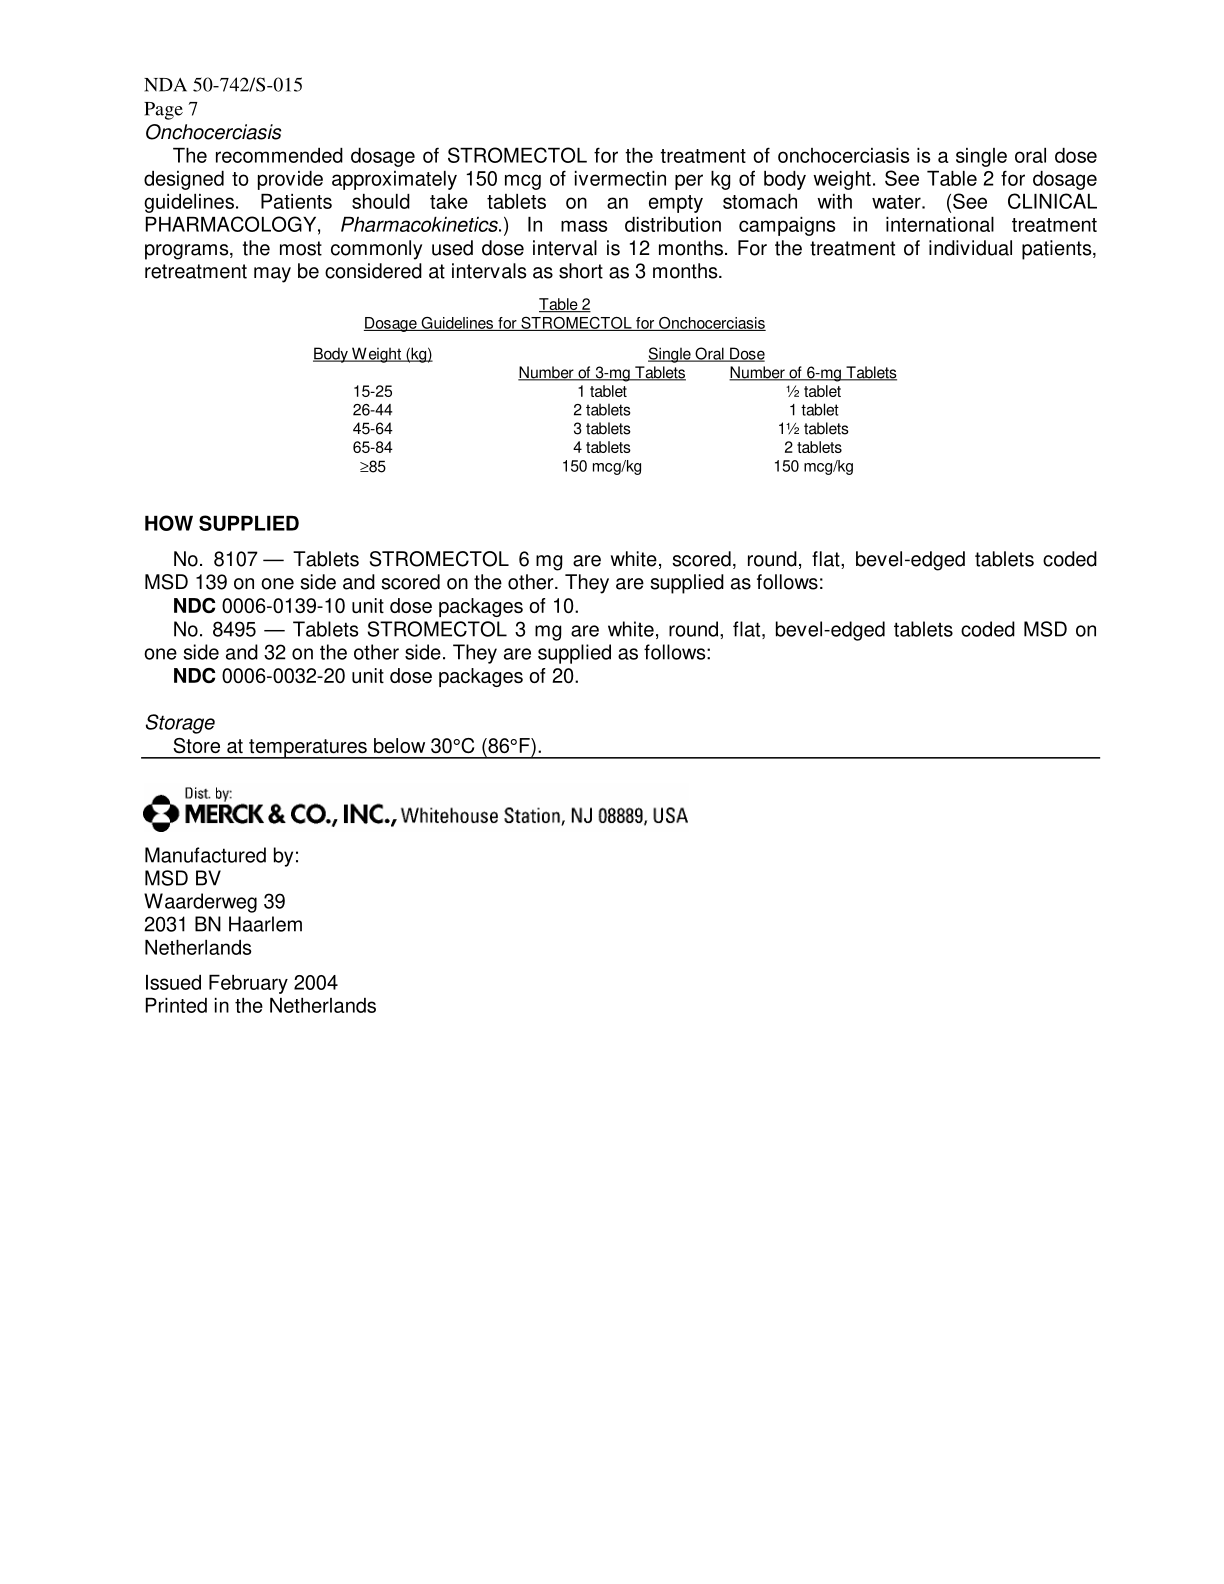nolines: (311, 345, 903, 477)
